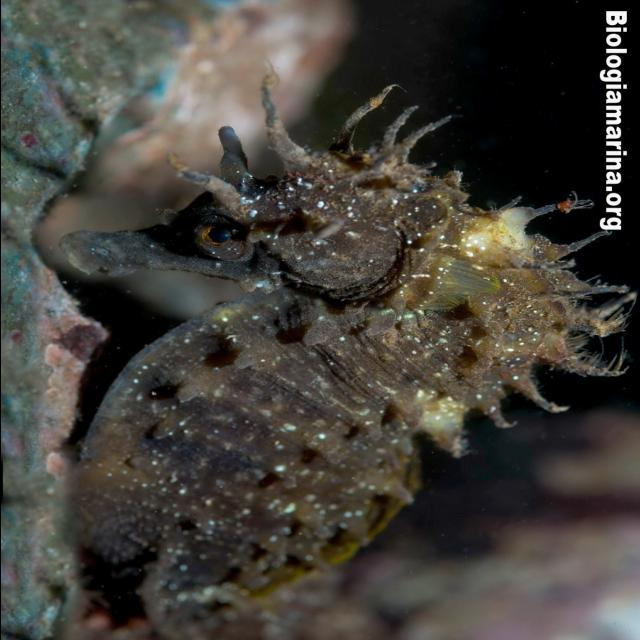Guttu: (40, 140, 472, 318)
